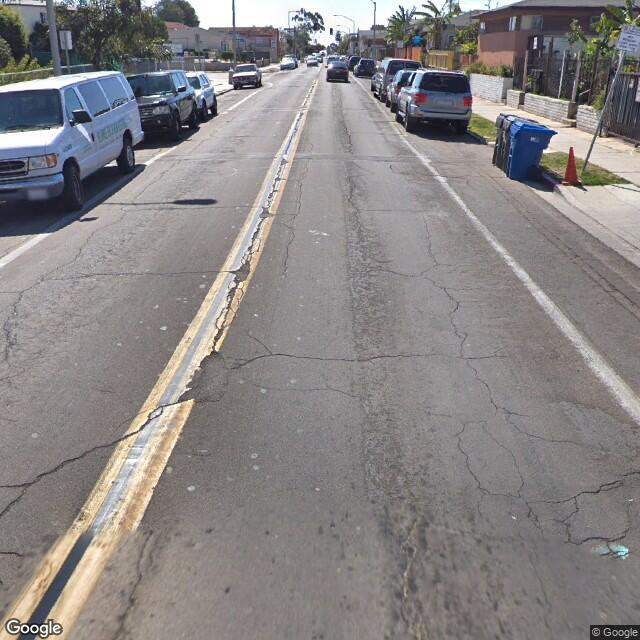road line: (1, 497, 165, 622), (96, 326, 217, 472), (201, 173, 287, 307)
